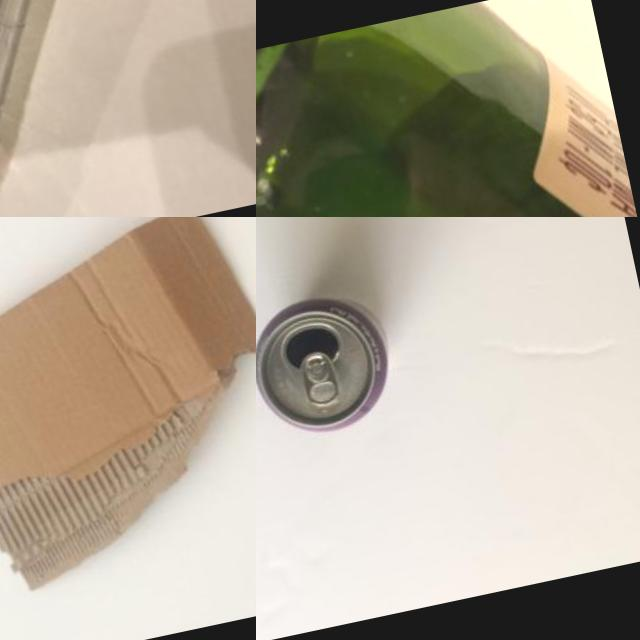aba de lata: (296, 348, 346, 411)
garrafa de vidro: (256, 0, 640, 217), (0, 0, 256, 217)
lata: (256, 281, 404, 444)
papelão: (0, 217, 256, 607)
